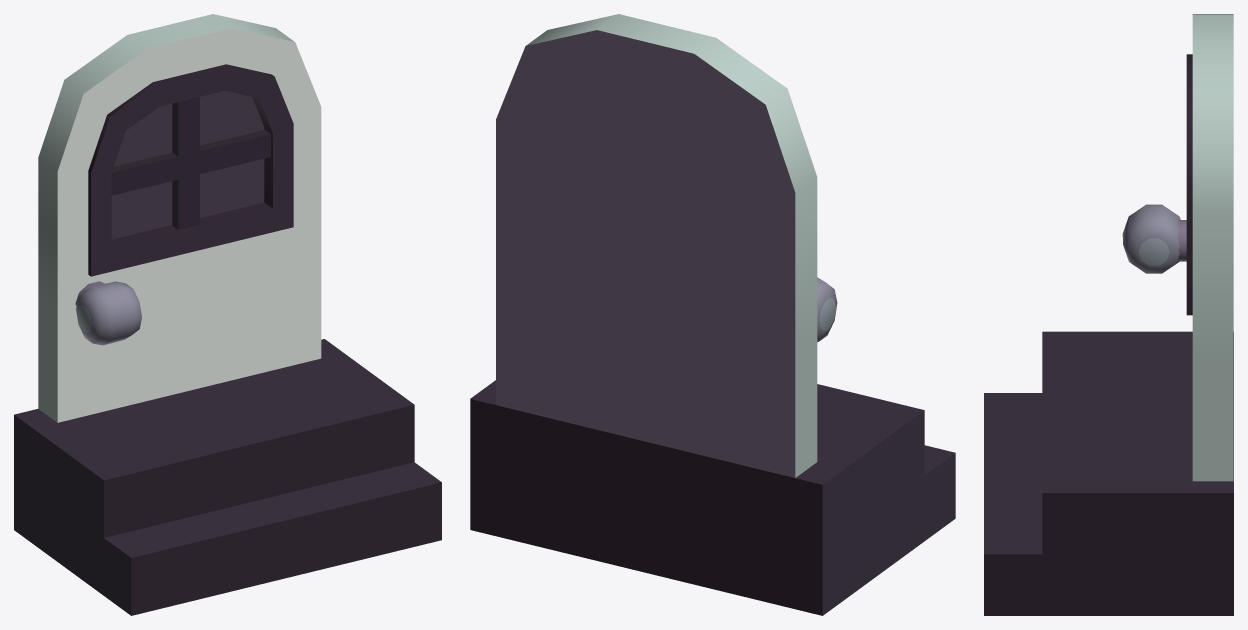
File: Door01_White_Black.glb
The picture shows the model from 3 angles, left to right: view 1: azimuth 30°, elevation 25°; view 2: azimuth 150°, elevation 25°; view 3: azimuth 270°, elevation 25°; orthographic projection. The views are drawn at different scales.
Visible parts, largest first — view 1: Door01_White_Black; view 2: Door01_White_Black; view 3: Door01_White_Black.
Boxes of the visible parts, left/top/right/bottom form: Door01_White_Black: left=14, top=14, right=441, bottom=615; Door01_White_Black: left=470, top=14, right=955, bottom=615; Door01_White_Black: left=984, top=14, right=1233, bottom=615.
Bounding box in the file's own units: 0.9795 × 1.41 × 0.6407.
1 material, 1 textured.
